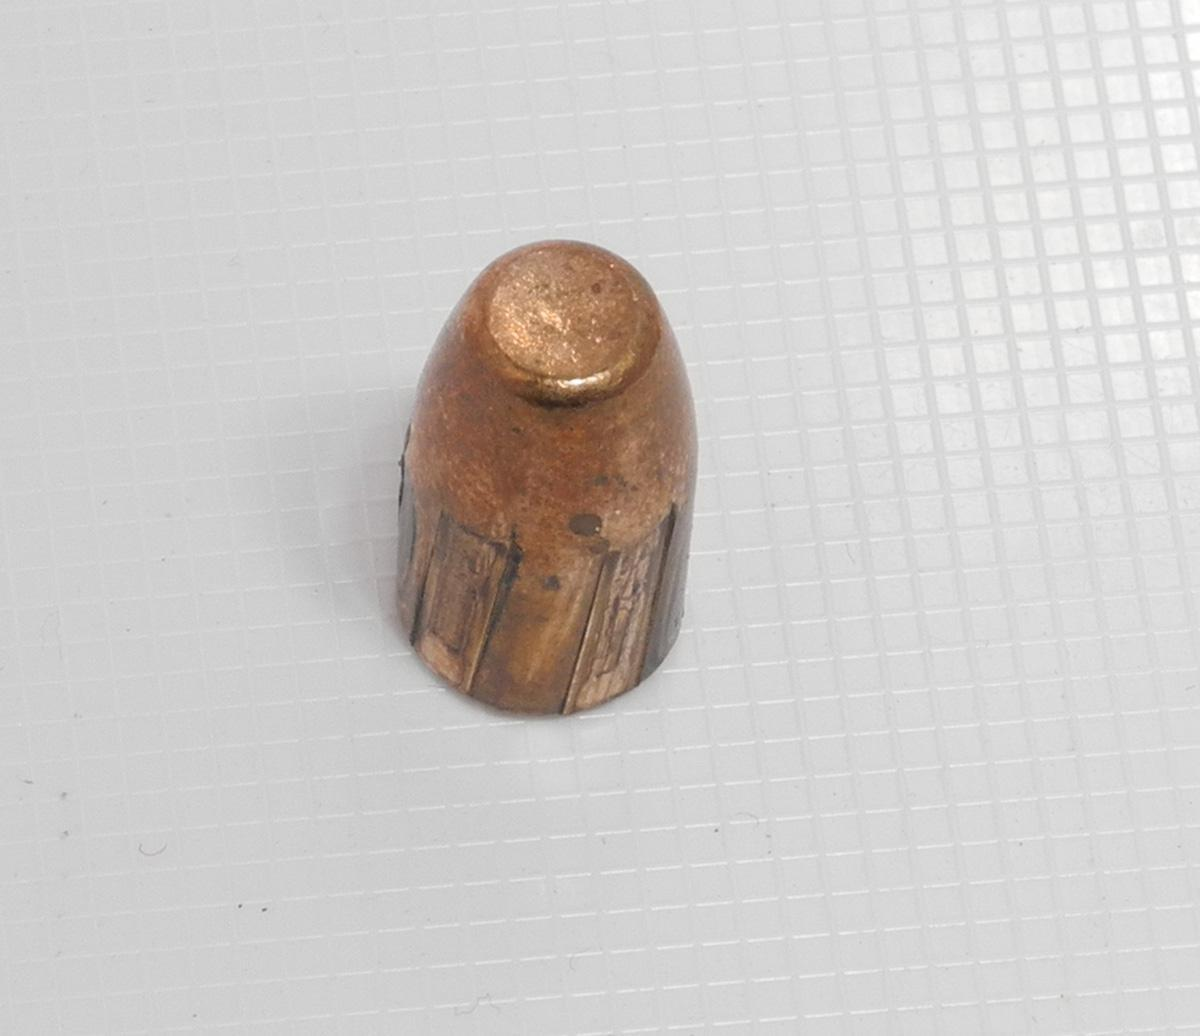Bullet: (366, 193, 728, 737)
